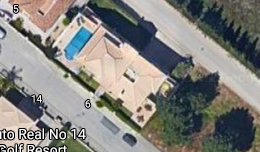pool: (66, 31, 93, 57)
